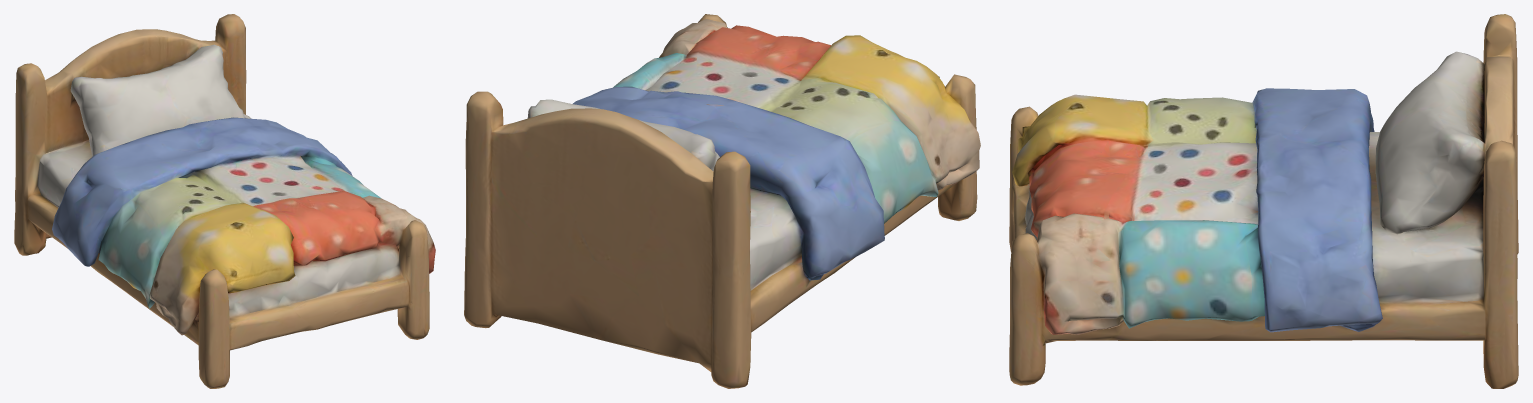
File: bed.glb
3 views of the same model, side by side, from view 1: azimuth 30°, elevation 25°; view 2: azimuth 150°, elevation 25°; view 3: azimuth 270°, elevation 25° (orthographic). The views are drawn at different scales.
Parts seen in each view (by area): view 1: tripo_node_41e58a38-a647-4d7c-91bb-94d62c2e770a; view 2: tripo_node_41e58a38-a647-4d7c-91bb-94d62c2e770a; view 3: tripo_node_41e58a38-a647-4d7c-91bb-94d62c2e770a.
Boxes of the visible parts, x1,y1,x2,y2 form: tripo_node_41e58a38-a647-4d7c-91bb-94d62c2e770a: [14, 14, 435, 388]; tripo_node_41e58a38-a647-4d7c-91bb-94d62c2e770a: [464, 14, 980, 388]; tripo_node_41e58a38-a647-4d7c-91bb-94d62c2e770a: [1009, 14, 1518, 388].
Size of the model in its own units: 0.803 by 0.5385 by 1.
1 material, 1 textured.
